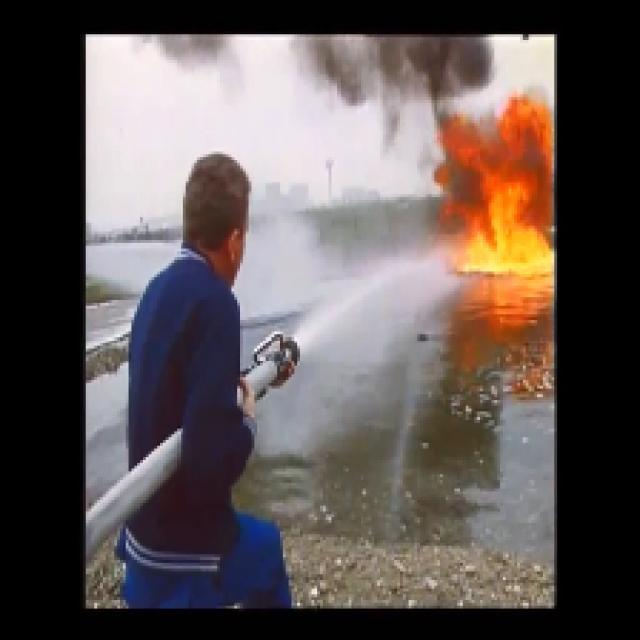Fire: (437, 106, 556, 274)
